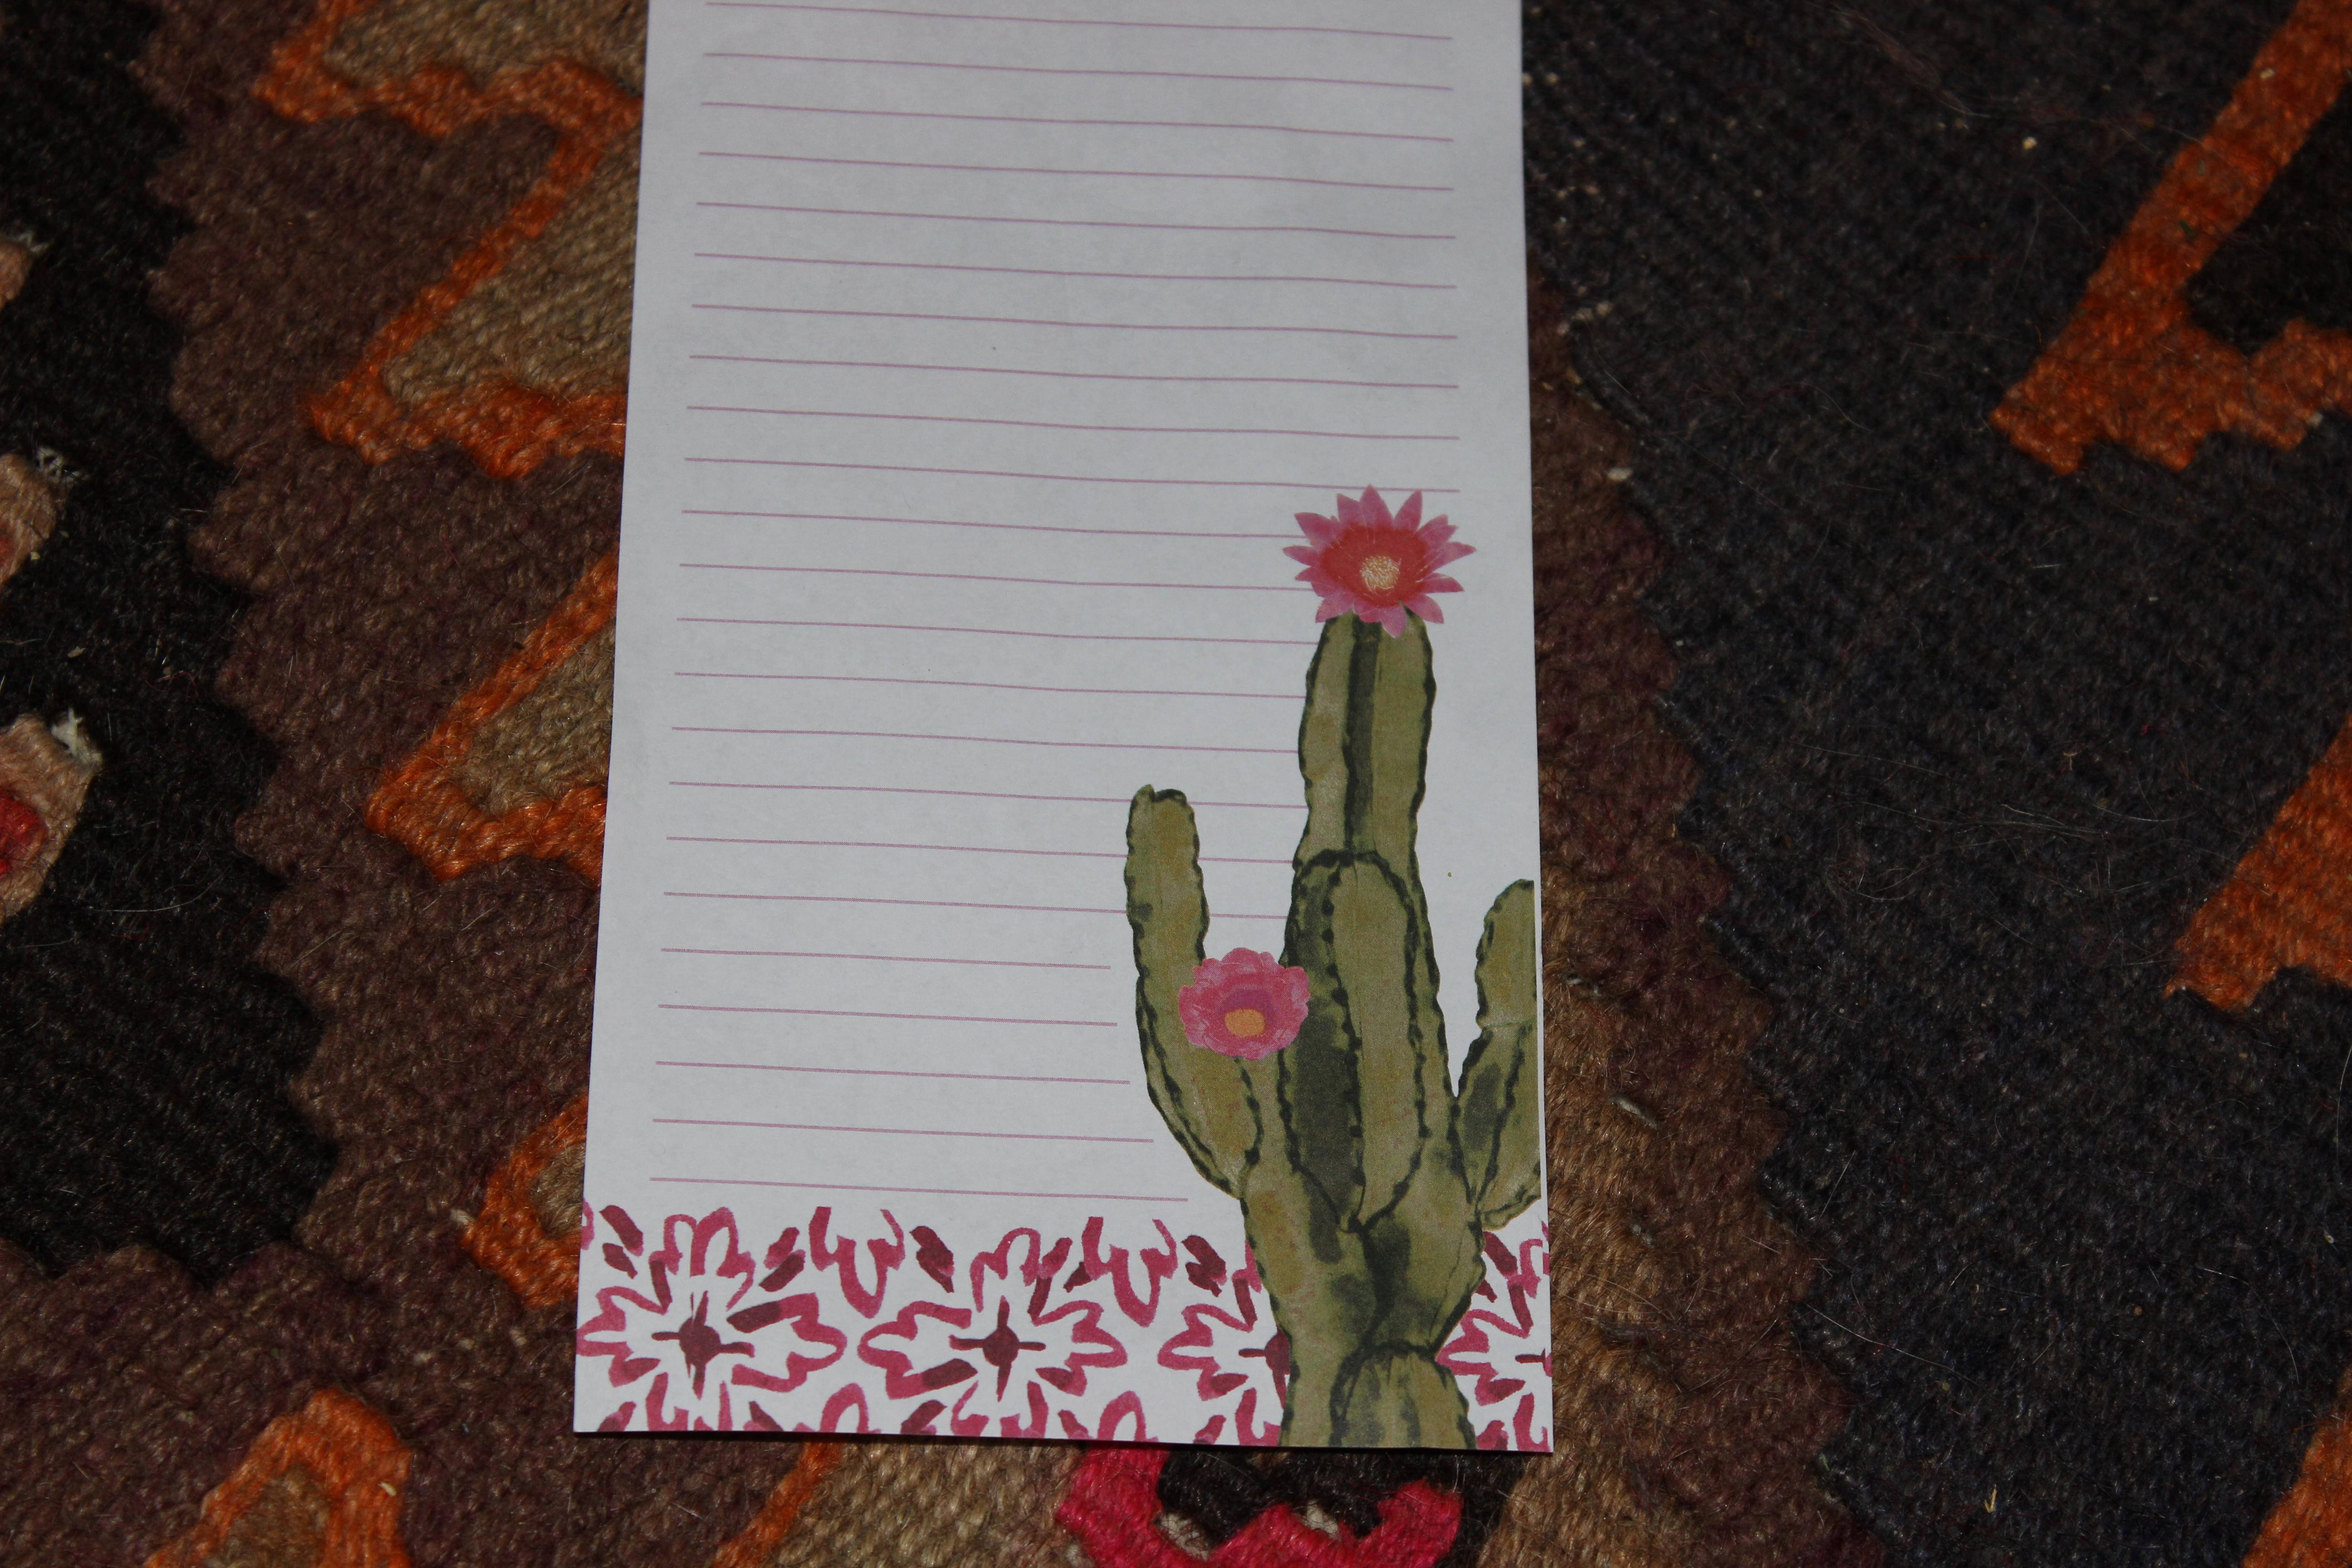cactusPaper: (511, 0, 1594, 1477)
